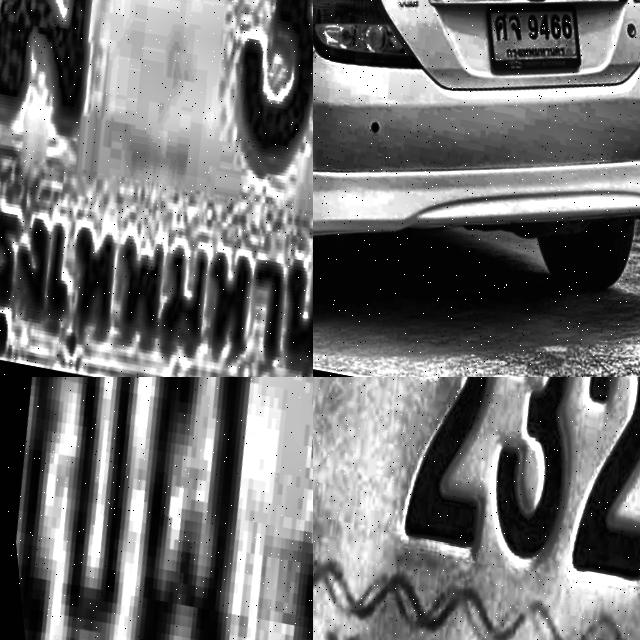license-plate: (0, 0, 313, 377), (313, 377, 640, 640), (0, 377, 313, 640), (465, 0, 588, 92)
